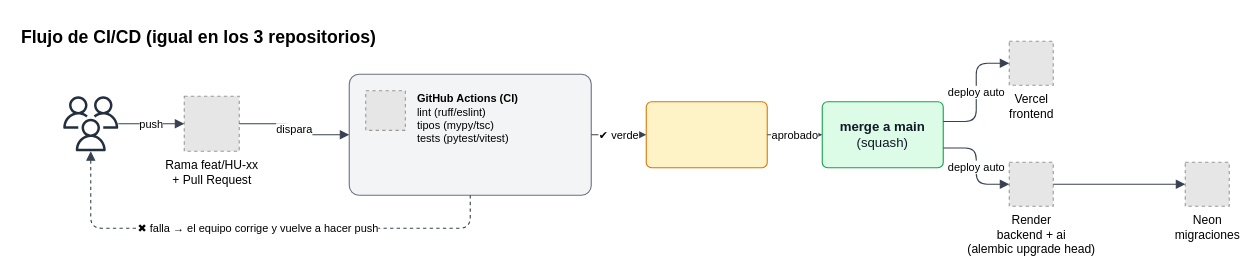
Image size: 1258x276. Some labels were removed from this diagram. Grey dashed boxes stand in for pictures. Each missing label, with the centre of its shape:
"Equipo" belongs at point (90, 123).
"Review (1 aprobación)" belongs at point (706, 134).
